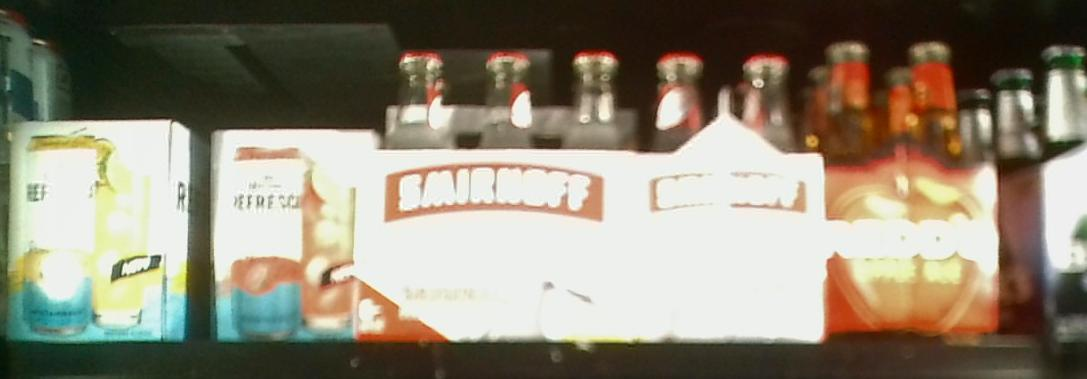bottle: (383, 52, 648, 340), (825, 36, 994, 332), (650, 50, 820, 342), (5, 118, 195, 342), (206, 123, 372, 349)
